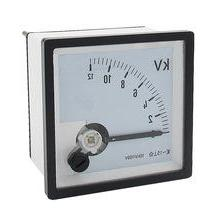pointer: (52, 40, 183, 190)
